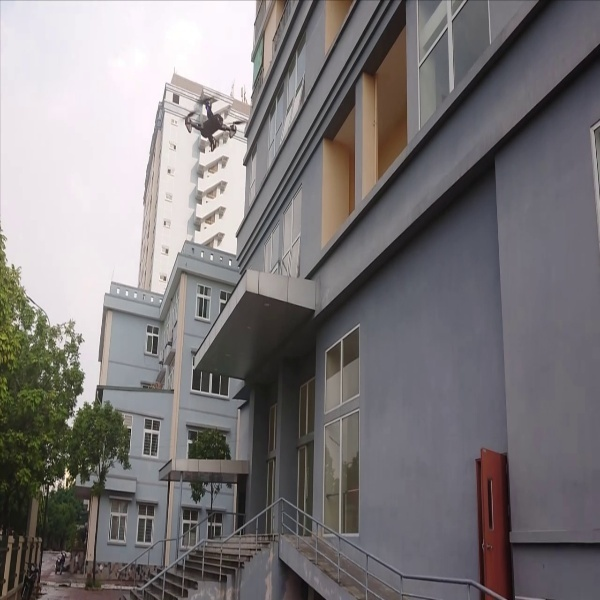drone: (172, 83, 243, 155)
